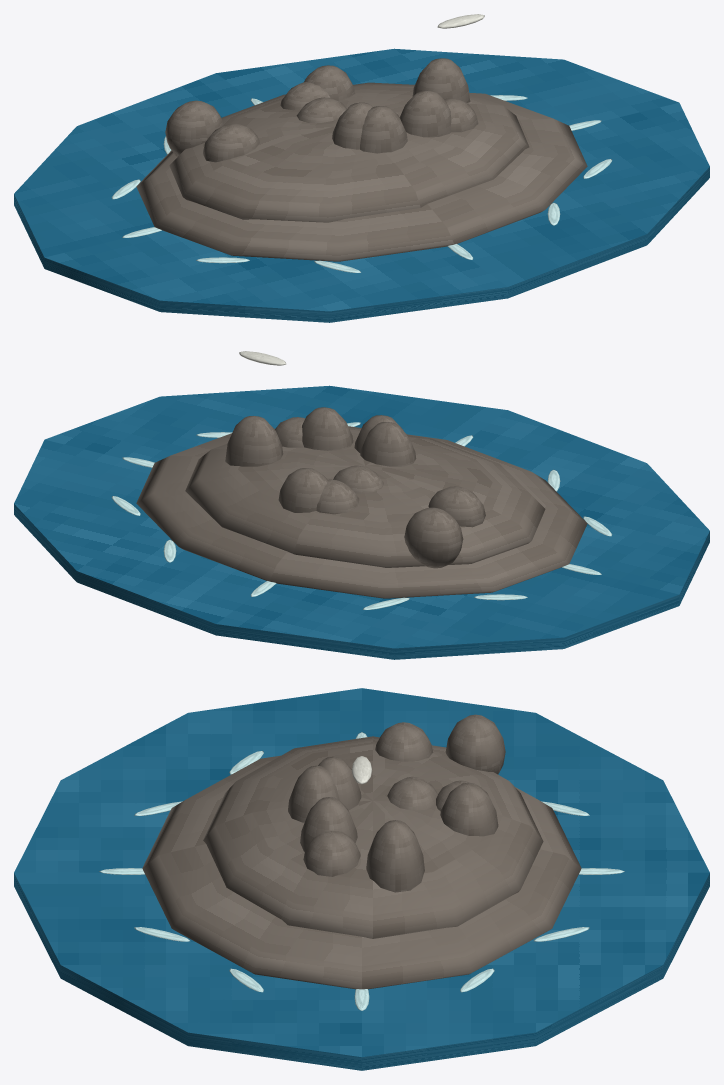
Rendered from rocky-island.glb.
3 renders of one model, top to bottom at view 1: azimuth 30°, elevation 25°; view 2: azimuth 150°, elevation 25°; view 3: azimuth 270°, elevation 25°, orthographic. The views are drawn at different scales.
Visible parts, largest first — view 1: surrounding water, island interior, coastline, coastal rock (×10); view 2: surrounding water, island interior, coastline, coastal rock (×9); view 3: surrounding water, island interior, coastline, coastal rock (×9).
Part boxes in pixels (x1,y1,x2,y2): surrounding water: (14,48,709,322); island interior: (169,82,529,222); coastline: (136,92,587,261); coastal rock (×10): (165,58,478,162); surrounding water: (14,385,709,659); island interior: (185,426,545,567); coastline: (136,426,587,598); coastal rock (×9): (225,407,485,568); surrounding water: (14,688,709,1070); island interior: (203,736,543,938); coastline: (142,755,581,989); coastal rock (×9): (288,714,505,892).
Size of the model in its own units: 6.4 by 1.57 by 5.1.
Materials: 4 (4 with a texture image).
